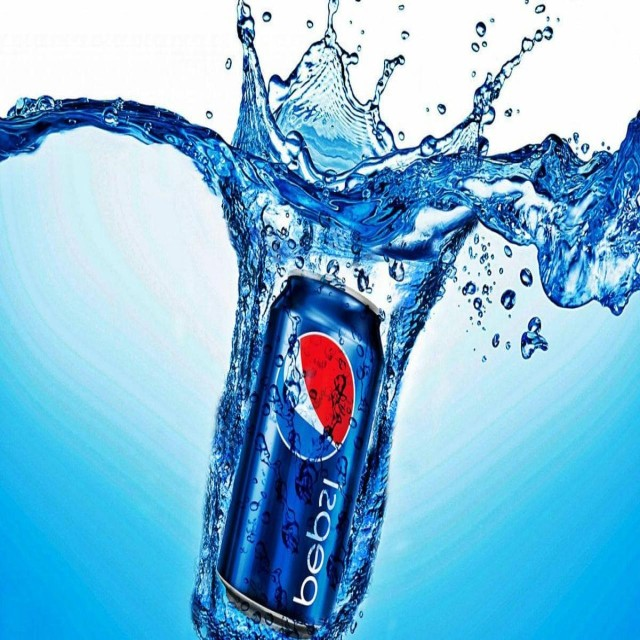pepsi: (269, 327, 358, 462)
